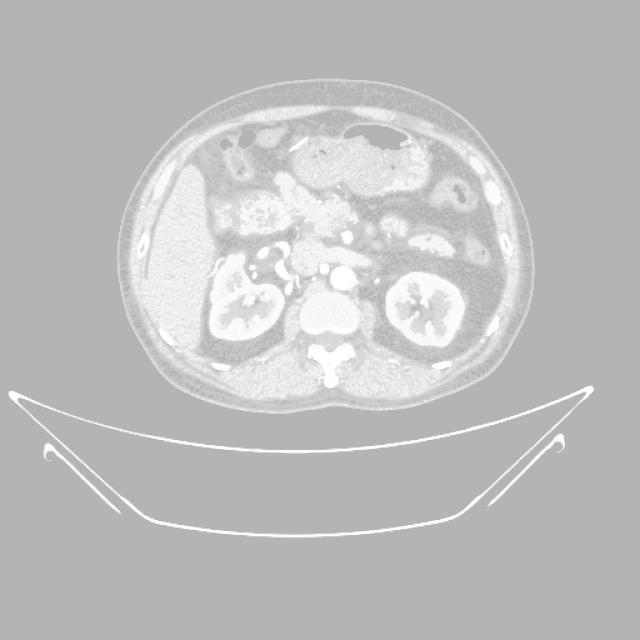TUMOR: (183, 162, 514, 309)
